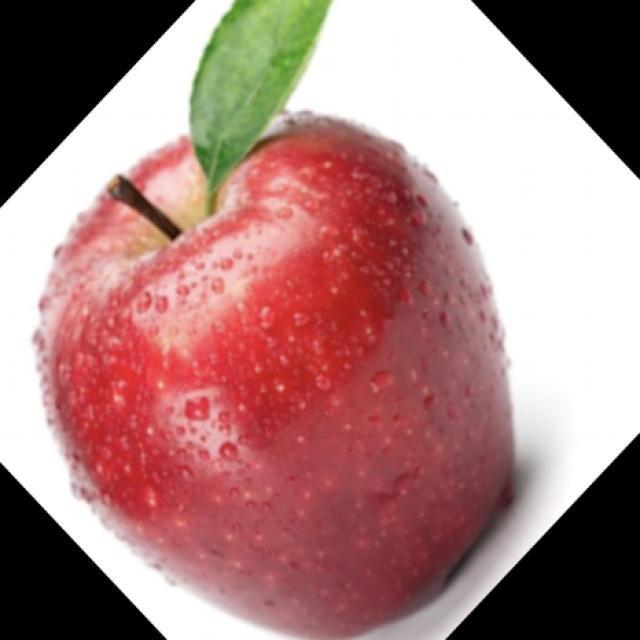Fresh Apple: (69, 122, 548, 615)
